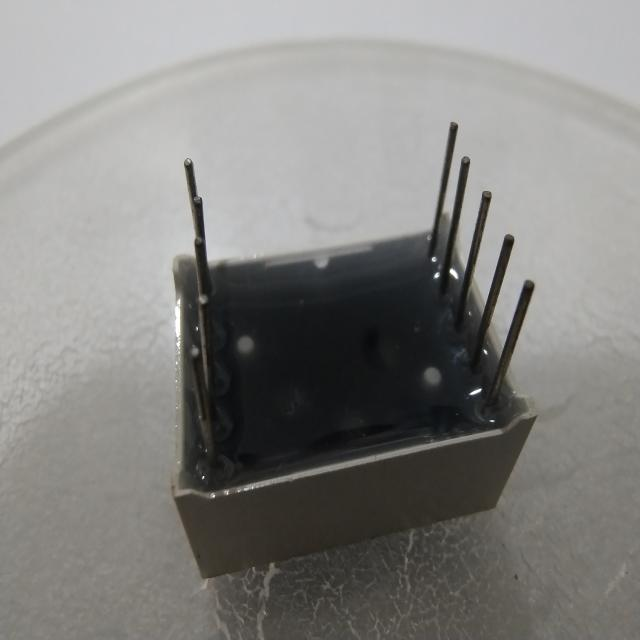7_segments: (158, 110, 553, 593)
